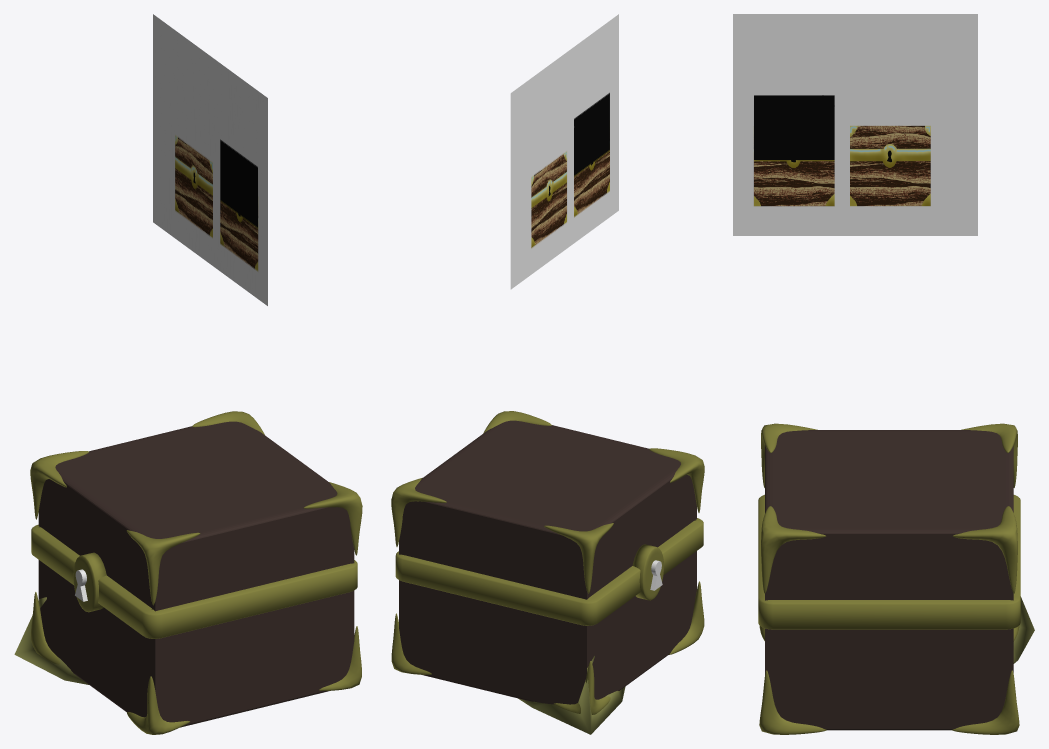
Rendered from Chest.glb.
The picture shows the model from 3 angles, left to right: view 1: azimuth 30°, elevation 25°; view 2: azimuth 150°, elevation 25°; view 3: azimuth 270°, elevation 25°; orthographic projection. The views are drawn at different scales.
Visible parts, largest first — view 1: Cube.002, Cube.001, Plane, Cube.003, Cube.004, Cube.005, Cylinder, Cube; view 2: Cube.002, Cube.001, Plane, Cube.003, Cube.004, Cube.005, Cube, Cylinder; view 3: Plane, Cube.002, Cube.001, Cube.003, Cube.004, Cube.005, Cube.
Part boxes in pixels (x1,y1,x2,y2): Cube.002: (38,421,354,611); Cube.001: (38,560,354,727); Plane: (153,14,267,305); Cube.003: (31,524,357,638); Cube.004: (30,411,362,605); Cube.005: (30,592,361,734); Cylinder: (73,552,106,612); Cube: (14,597,88,684); Cube.002: (399,420,696,599); Cube.001: (399,551,696,704); Plane: (510,14,618,289); Cube.003: (395,518,703,625); Cube.004: (391,411,704,593); Cube.005: (391,581,704,714); Cube: (518,656,625,734); Cylinder: (632,544,663,600); Plane: (733,14,977,235); Cube.002: (765,430,1013,600); Cube.001: (765,628,1013,730); Cube.003: (758,494,1020,629); Cube.004: (761,423,1017,593); Cube.005: (759,625,1019,734); Cube: (1013,596,1034,663).
Bounding box in the file's own units: 2.26 × 6.08 × 2.47.
Materials: 5 (1 with a texture image).
